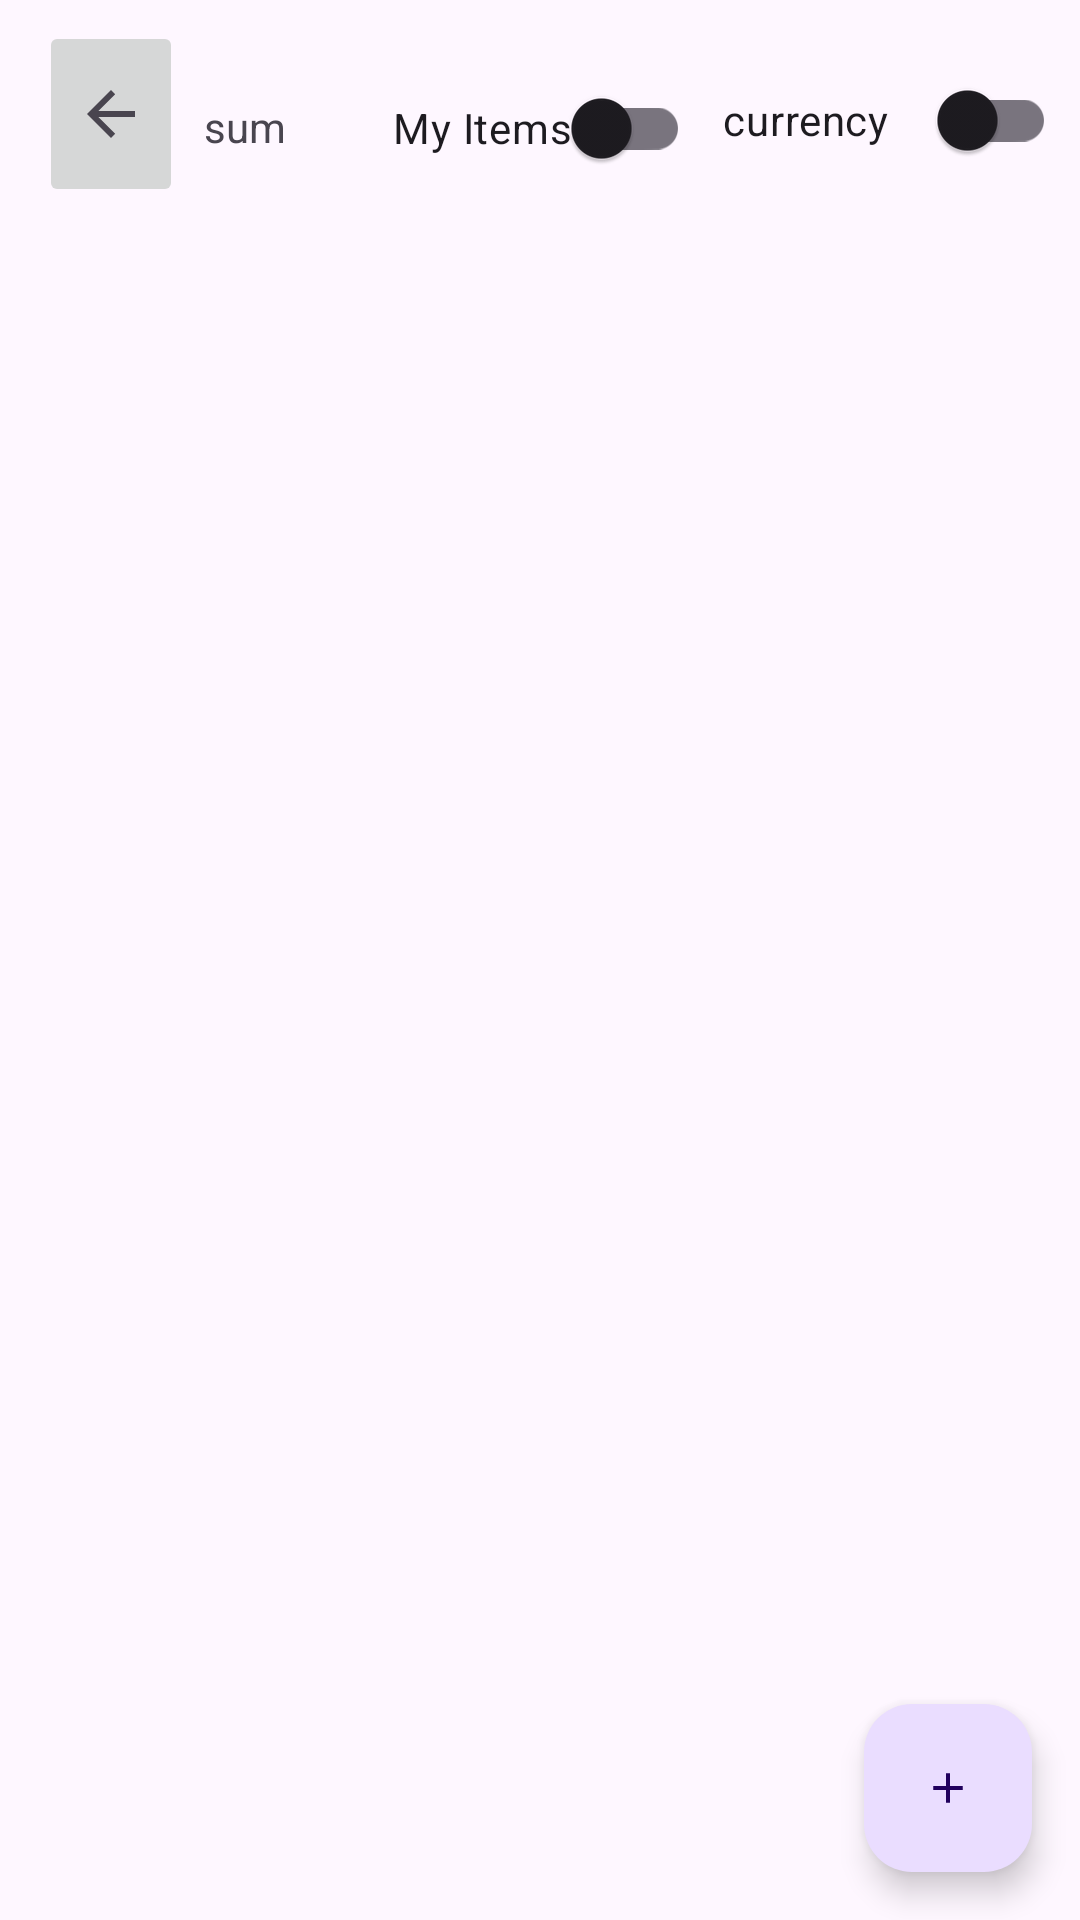

Icons on this 1080 × 1920 Android screen, each with its box as (x1, y1, x2, y2):
add space: (864, 1704, 1032, 1872)
Back to Main: (51, 39, 171, 189)
